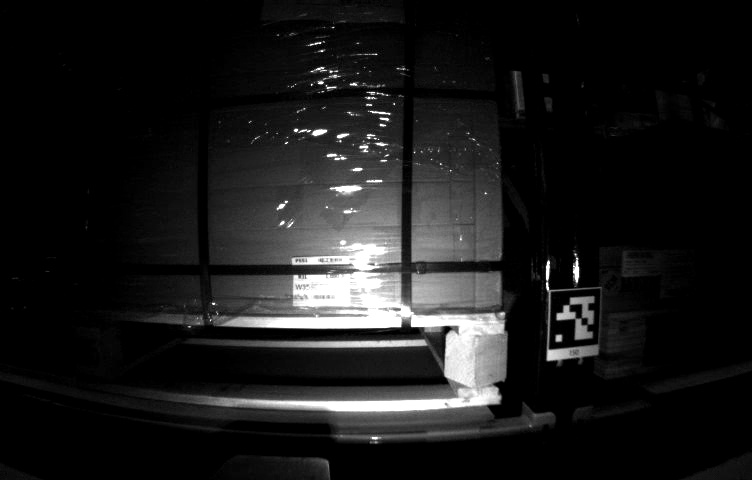True Barcode: (289, 258, 349, 303)
